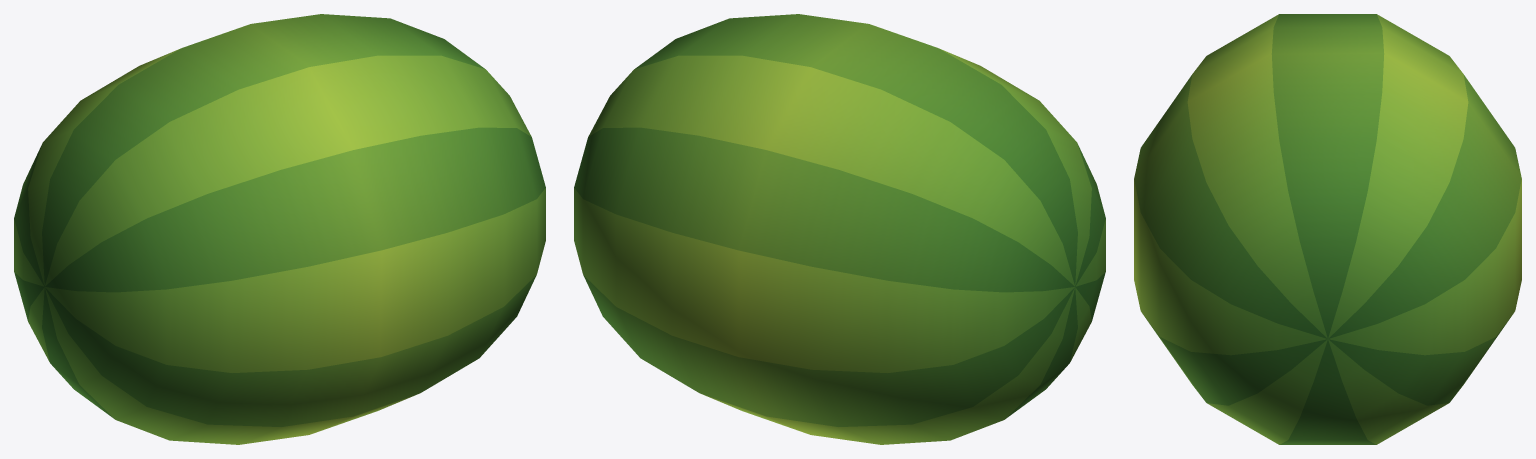
File: Melon_02.glb
The picture shows the model from 3 angles, left to right: view 1: azimuth 30°, elevation 25°; view 2: azimuth 150°, elevation 25°; view 3: azimuth 270°, elevation 25°; orthographic projection. The views are drawn at different scales.
Parts seen in each view (by area): view 1: Melon_02; view 2: Melon_02; view 3: Melon_02.
Part boxes in pixels (box(x1,y1,x2,y2)): Melon_02: box(14, 14, 545, 444); Melon_02: box(574, 14, 1105, 444); Melon_02: box(1134, 14, 1521, 444).
Size of the model in its own units: 0.4713 by 0.3521 by 0.3521.
1 material, 1 textured.
